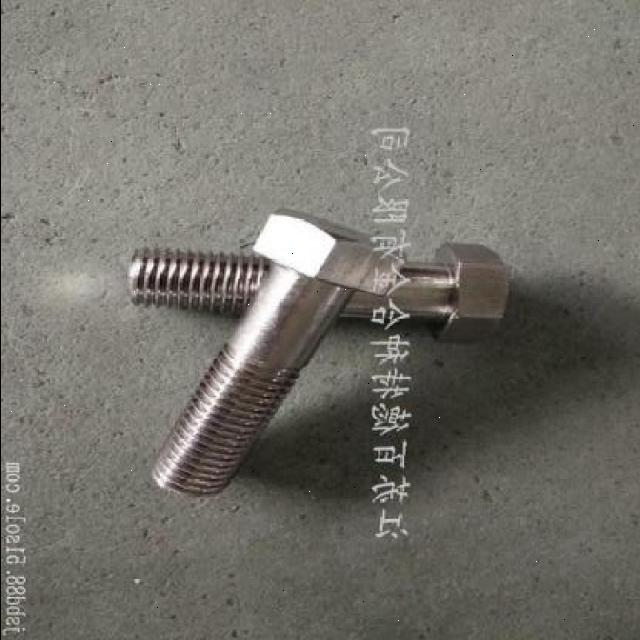Bolt: (148, 209, 400, 498), (125, 240, 508, 348)
